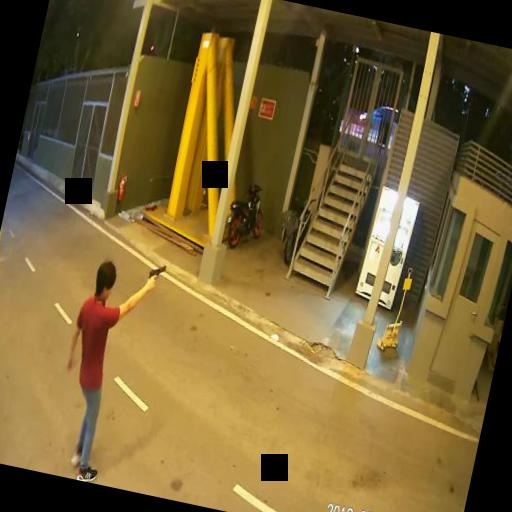Handgun: (144, 260, 164, 290)
